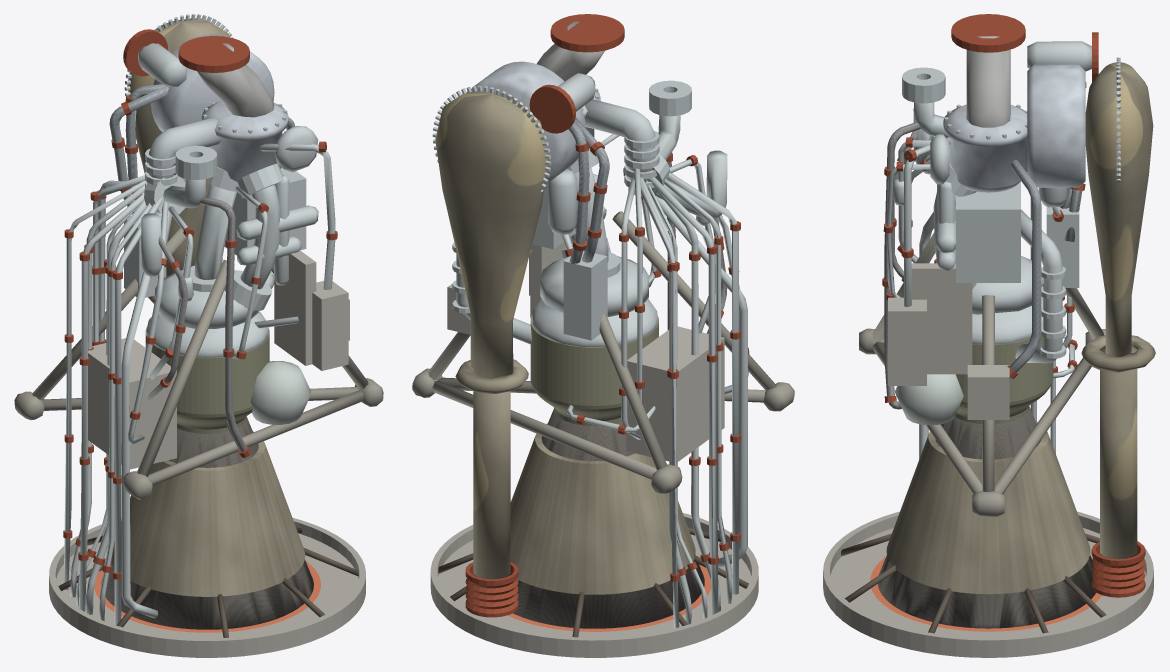
Rendered from xlr99.glb.
The picture shows the model from 3 angles, left to right: view 1: azimuth 30°, elevation 25°; view 2: azimuth 150°, elevation 25°; view 3: azimuth 270°, elevation 25°; orthographic projection. The views are drawn at different scales.
Visible parts, largest first — view 1: xlr99_ammonia_inlet, xlr99_nozzle_skin, xlr99_nozzle, xlr99_turbine_case, xlr99_turbine_exhaust, xlr99_side_hose_0, xlr99_braided_hose_0; view 2: xlr99_ammonia_inlet, xlr99_turbine_exhaust, xlr99_nozzle_skin, xlr99_nozzle, xlr99_turbine_case, xlr99_braided_hose_0; view 3: xlr99_ammonia_inlet, xlr99_turbine_exhaust, xlr99_nozzle_skin, xlr99_turbine_case, xlr99_nozzle, xlr99_braided_hose_0, xlr99_side_hose_0.
Boxes of the visible parts, x1=… form: xlr99_ammonia_inlet: x1=14, y1=14, x2=383, y2=657; xlr99_nozzle_skin: x1=111, y1=431, x2=305, y2=596; xlr99_nozzle: x1=101, y1=417, x2=313, y2=629; xlr99_turbine_case: x1=151, y1=34, x2=288, y2=182; xlr99_turbine_exhaust: x1=127, y1=18, x2=229, y2=303; xlr99_side_hose_0: x1=147, y1=197, x2=246, y2=451; xlr99_braided_hose_0: x1=109, y1=84, x2=294, y2=214; xlr99_ammonia_inlet: x1=412, y1=14, x2=794, y2=657; xlr99_turbine_exhaust: x1=435, y1=90, x2=548, y2=579; xlr99_nozzle_skin: x1=510, y1=423, x2=695, y2=594; xlr99_nozzle: x1=513, y1=408, x2=704, y2=628; xlr99_turbine_case: x1=471, y1=61, x2=600, y2=184; xlr99_braided_hose_0: x1=568, y1=117, x2=609, y2=264; xlr99_ammonia_inlet: x1=823, y1=14, x2=1153, y2=657; xlr99_turbine_exhaust: x1=1081, y1=62, x2=1155, y2=558; xlr99_nozzle_skin: x1=886, y1=421, x2=1090, y2=594; xlr99_turbine_case: x1=943, y1=64, x2=1085, y2=192; xlr99_nozzle: x1=877, y1=406, x2=1096, y2=628; xlr99_braided_hose_0: x1=1009, y1=160, x2=1082, y2=379; xlr99_side_hose_0: x1=884, y1=122, x2=920, y2=409.
Size of the model in its own units: 1.15 by 1.92 by 1.03.
8 materials, 8 textured.
